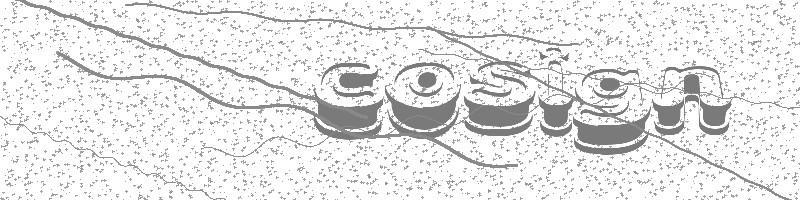c: (313, 61, 384, 140)
g: (573, 68, 651, 156)
i: (537, 46, 574, 138)
n: (652, 65, 732, 136)
o: (385, 61, 461, 139)
s: (464, 60, 536, 138)
